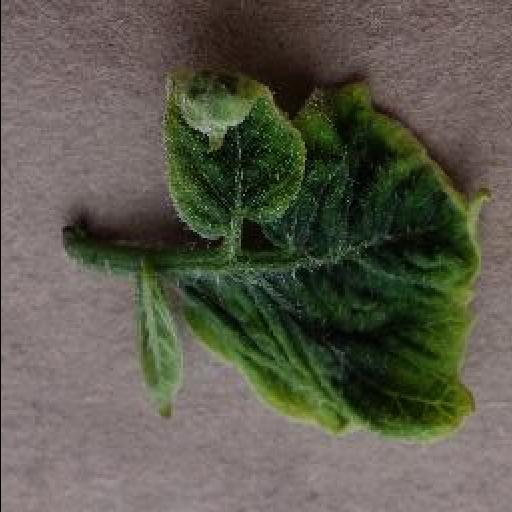disease_tomato: (162, 72, 490, 442)
